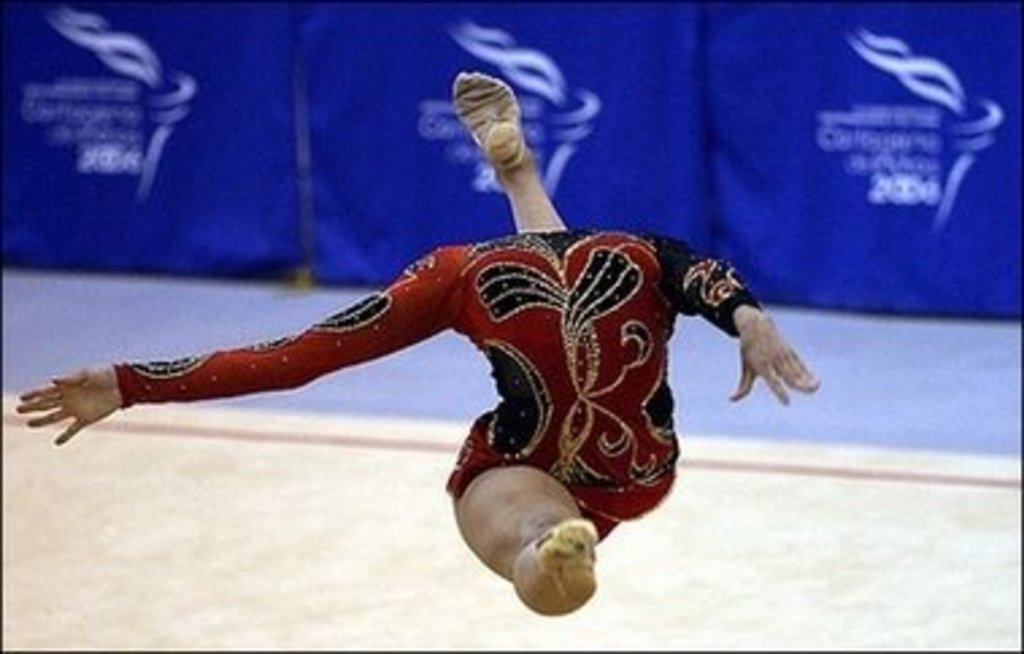Person: (13, 70, 820, 615)
